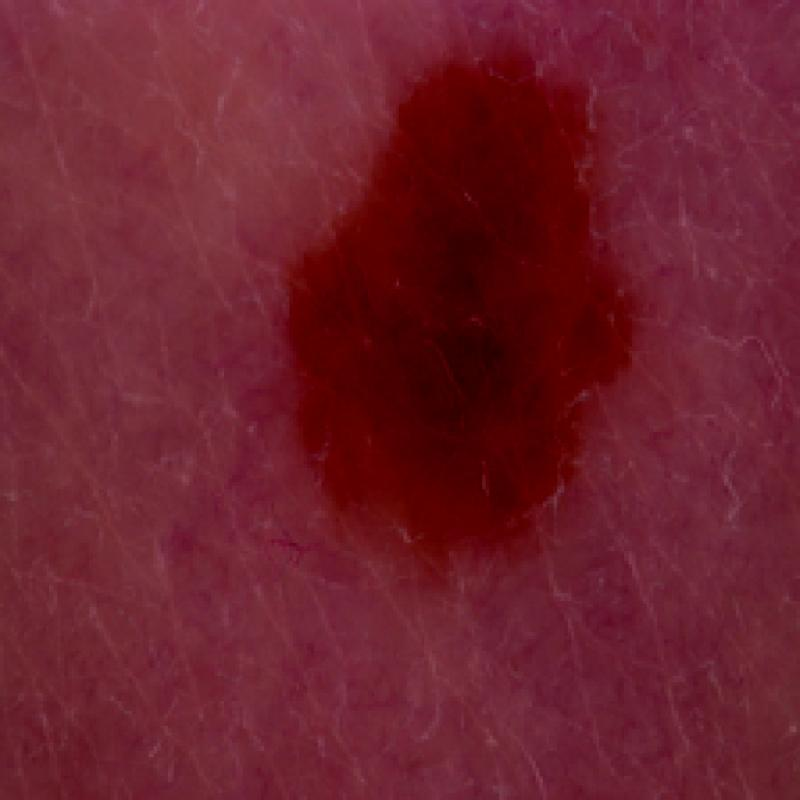benign: (240, 28, 650, 571)
